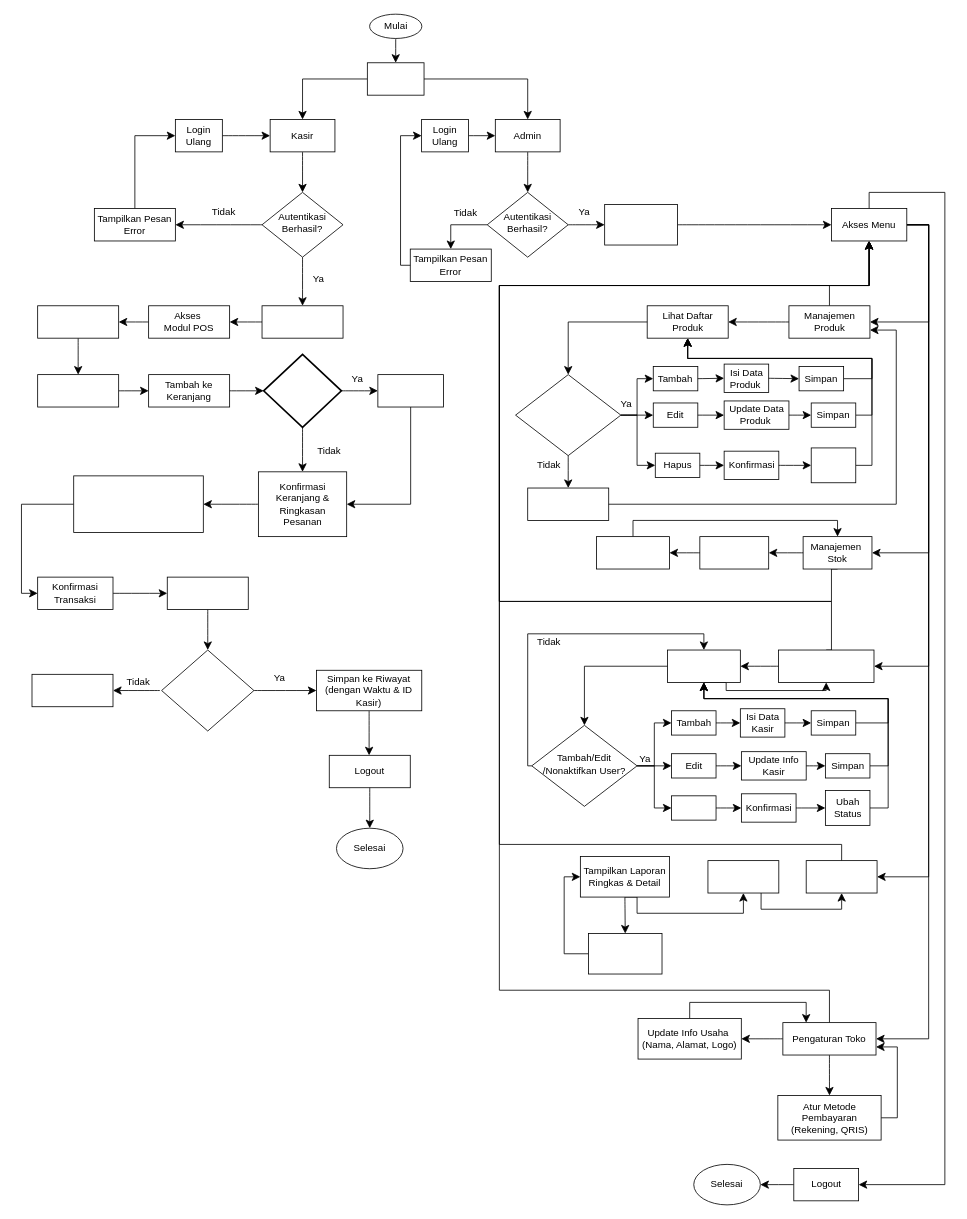
Some shapes in this 967 by 1219 pixel diagram are drawn without their labels. Here are the shapes that lost their labels. From the top down, the centre of each, then its label:
At point 395,78: "Login".
At point 641,224: "Masuk Dashboard Admin".
At point 78,321: "Cari & Pilih Produk".
At point 302,321: "Masuk ke Dashboard Kasir".
At point 78,390: "Atur Jumlah Produk".
At point 302,390: "Ada Diskon atau Promo?".
At point 410,390: "Terapkan Diskon".
At point 568,415: "Tambah/Edit /Hapus Produk ?".
At point 833,465: "Hapus Produk".
At point 138,504: "Pilih Metode Pembayaran (Tunai / Transfer / QRIS )".
At point 568,503: "Kelola Kategori Produk".
At point 632,552: "Update Stok & Harga".
At point 734,552: "Lihat Stok Barang".
At point 207,593: "Cetak Struk".
At point 703,665: "Lihat Daftar User".
At point 826,665: "Manajemen User Kasir".
At point 72,690: "Hapus Riwayat Transaksi".
At point 207,690: "Apakah Struk sudah Benar?".
At point 693,807: "Nonaktif".
At point 743,876: "Pilih Rentang Waktu".
At point 841,876: "Laporan Penjualan".
At point 625,953: "Download / Cetak Laporan".
